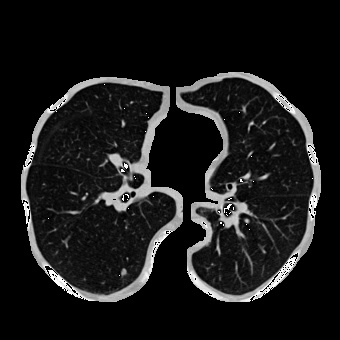PN: (120, 268, 126, 274)
